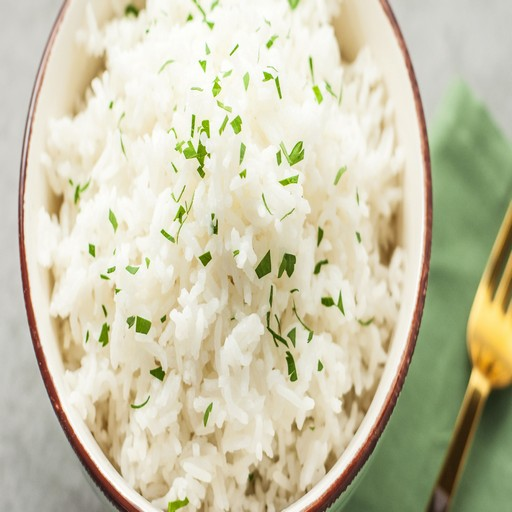rice: (222, 145, 383, 375)
